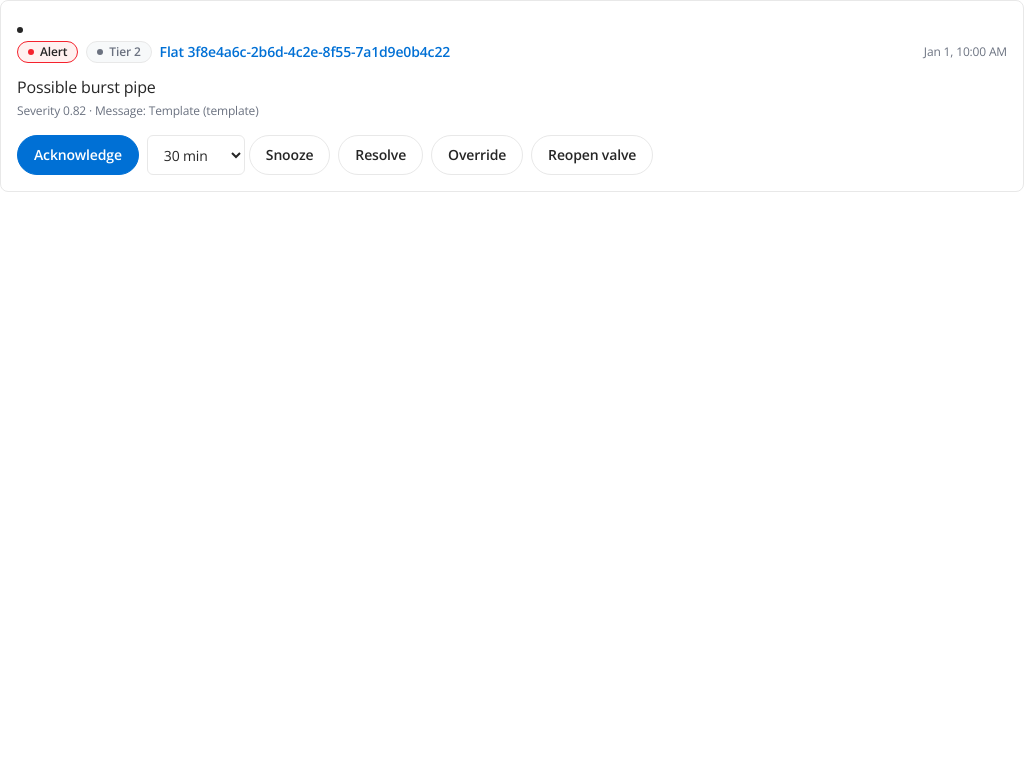
it: alert row actions › cancelling the override dialog sends nothing
Click the button "Override" at (477, 155), box [431,135,523,175]
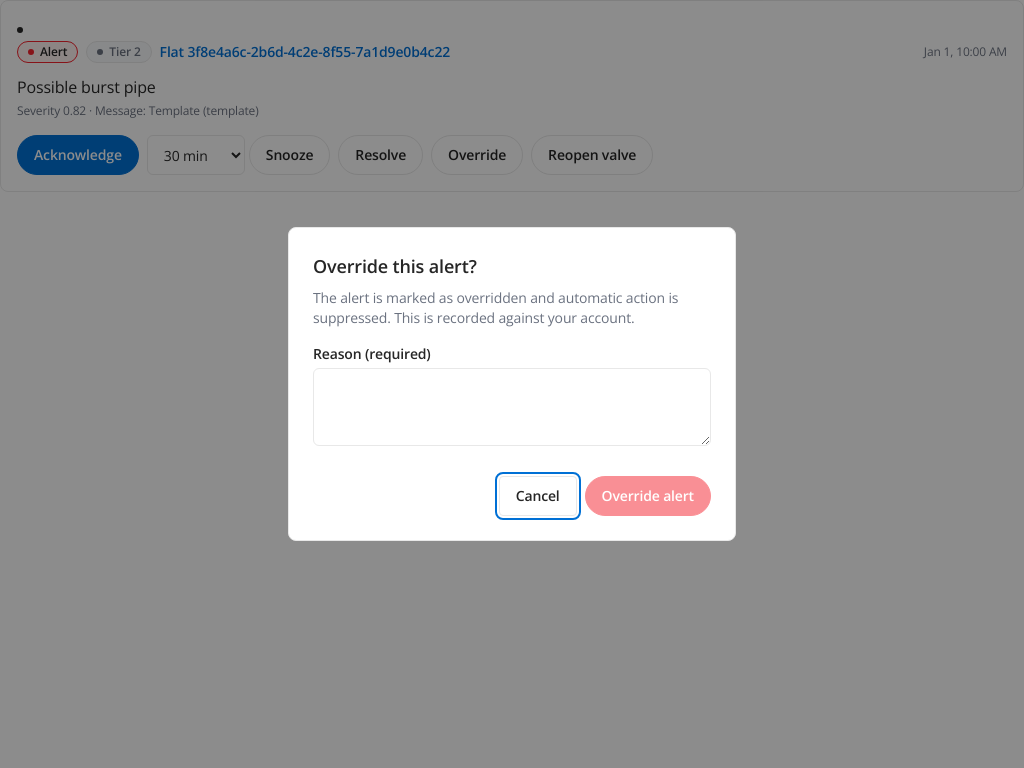
Press Escape
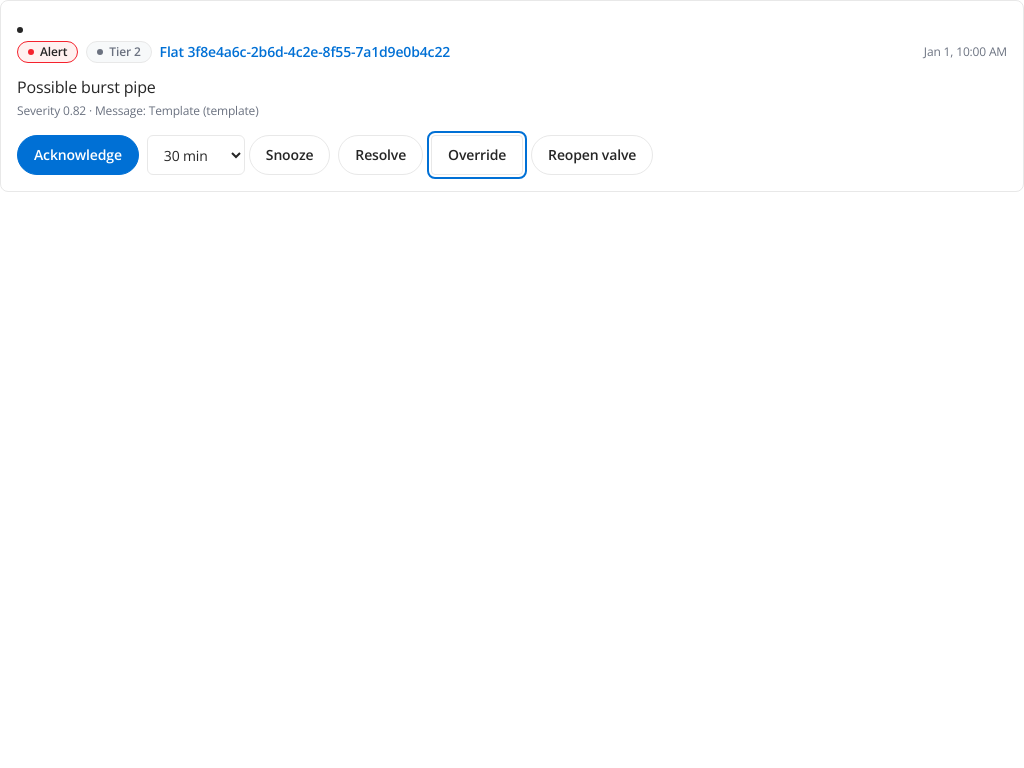
Now the dialog is gone
